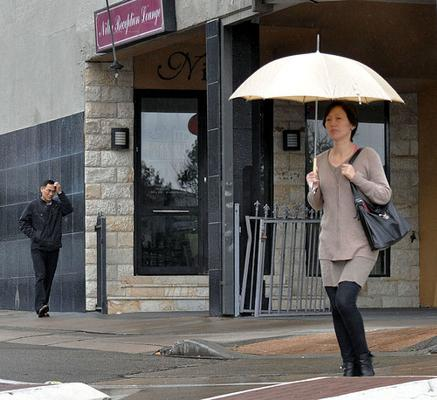person: (307, 100, 395, 376)
